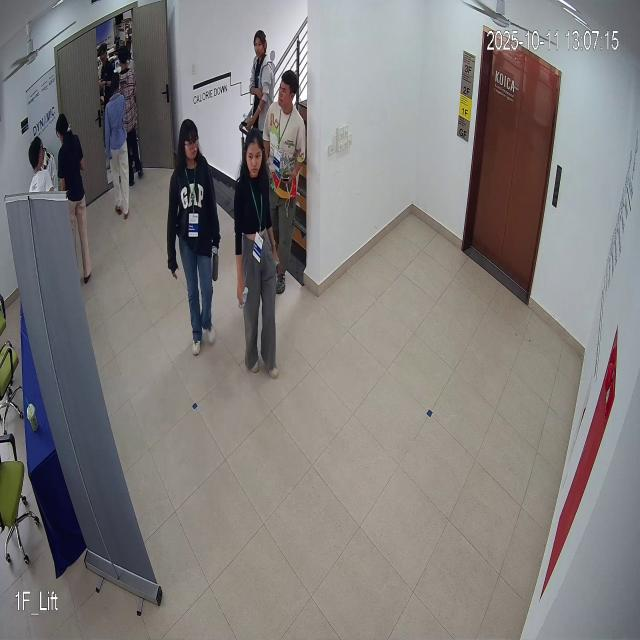face: (238, 129, 268, 184), (176, 112, 203, 166), (277, 68, 297, 112)
